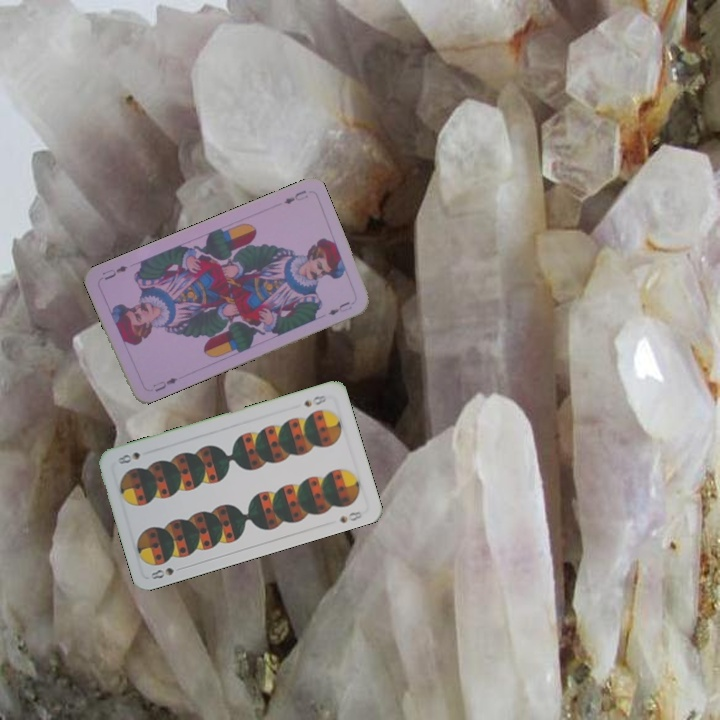EU: (279, 186, 311, 207), (149, 373, 180, 394)
S8: (146, 563, 187, 582), (300, 391, 328, 409)
